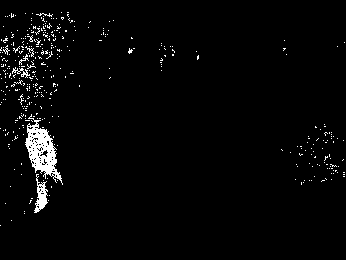person: (22, 119, 64, 215)
